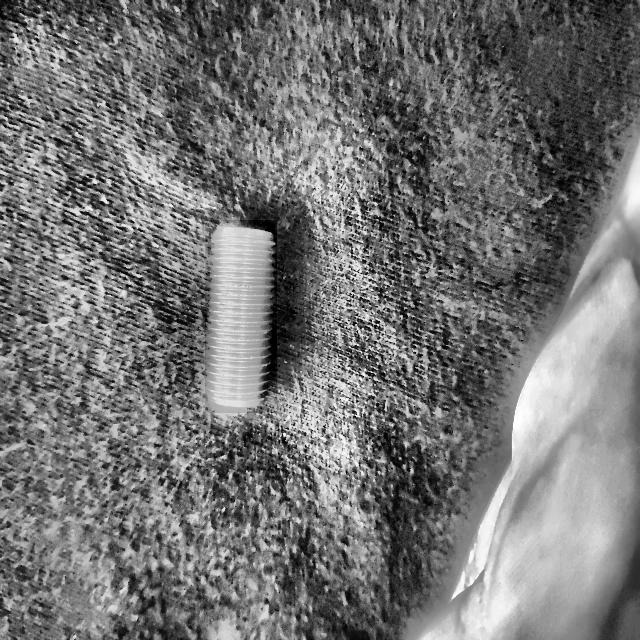Normal: (205, 220, 277, 413)
